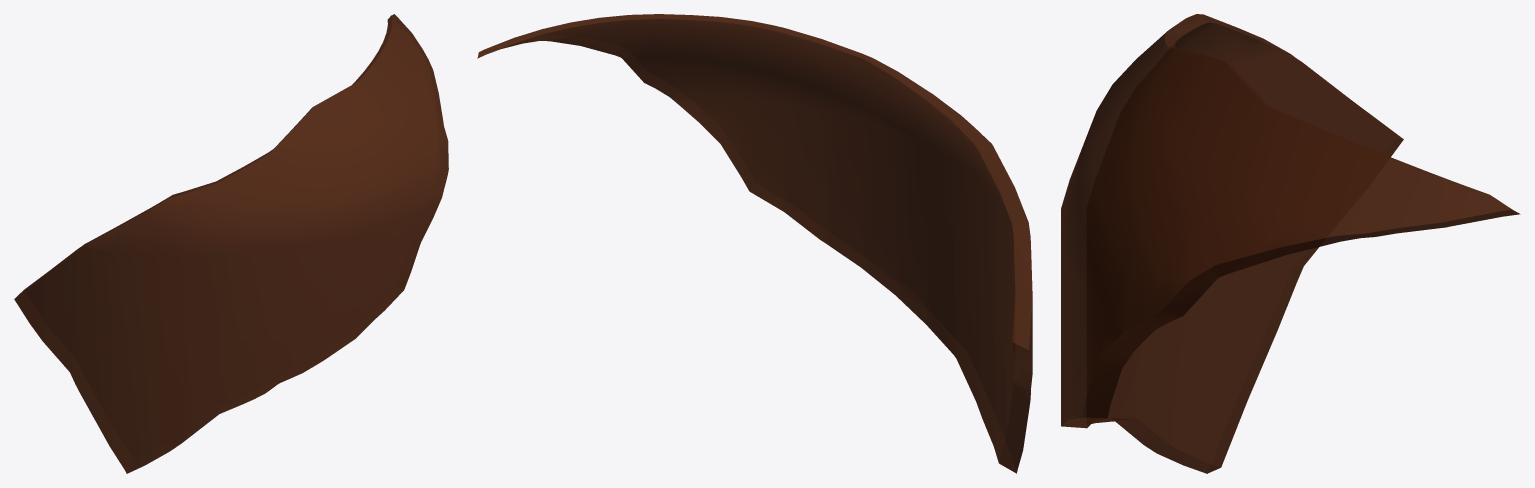
The model's file is GlassCurve.FBX.
3 views of the same model, side by side, from view 1: azimuth 30°, elevation 25°; view 2: azimuth 150°, elevation 25°; view 3: azimuth 270°, elevation 25° (orthographic). The views are drawn at different scales.
Parts seen in each view (by area): view 1: polySurface28; view 2: polySurface28; view 3: polySurface28.
Boxes of the visible parts, x1,y1,x2,y2 form: polySurface28: (14,14,448,473); polySurface28: (477,14,1032,473); polySurface28: (1061,14,1520,473).
Size of the model in its own units: 5.61 by 4.22 by 2.94.
